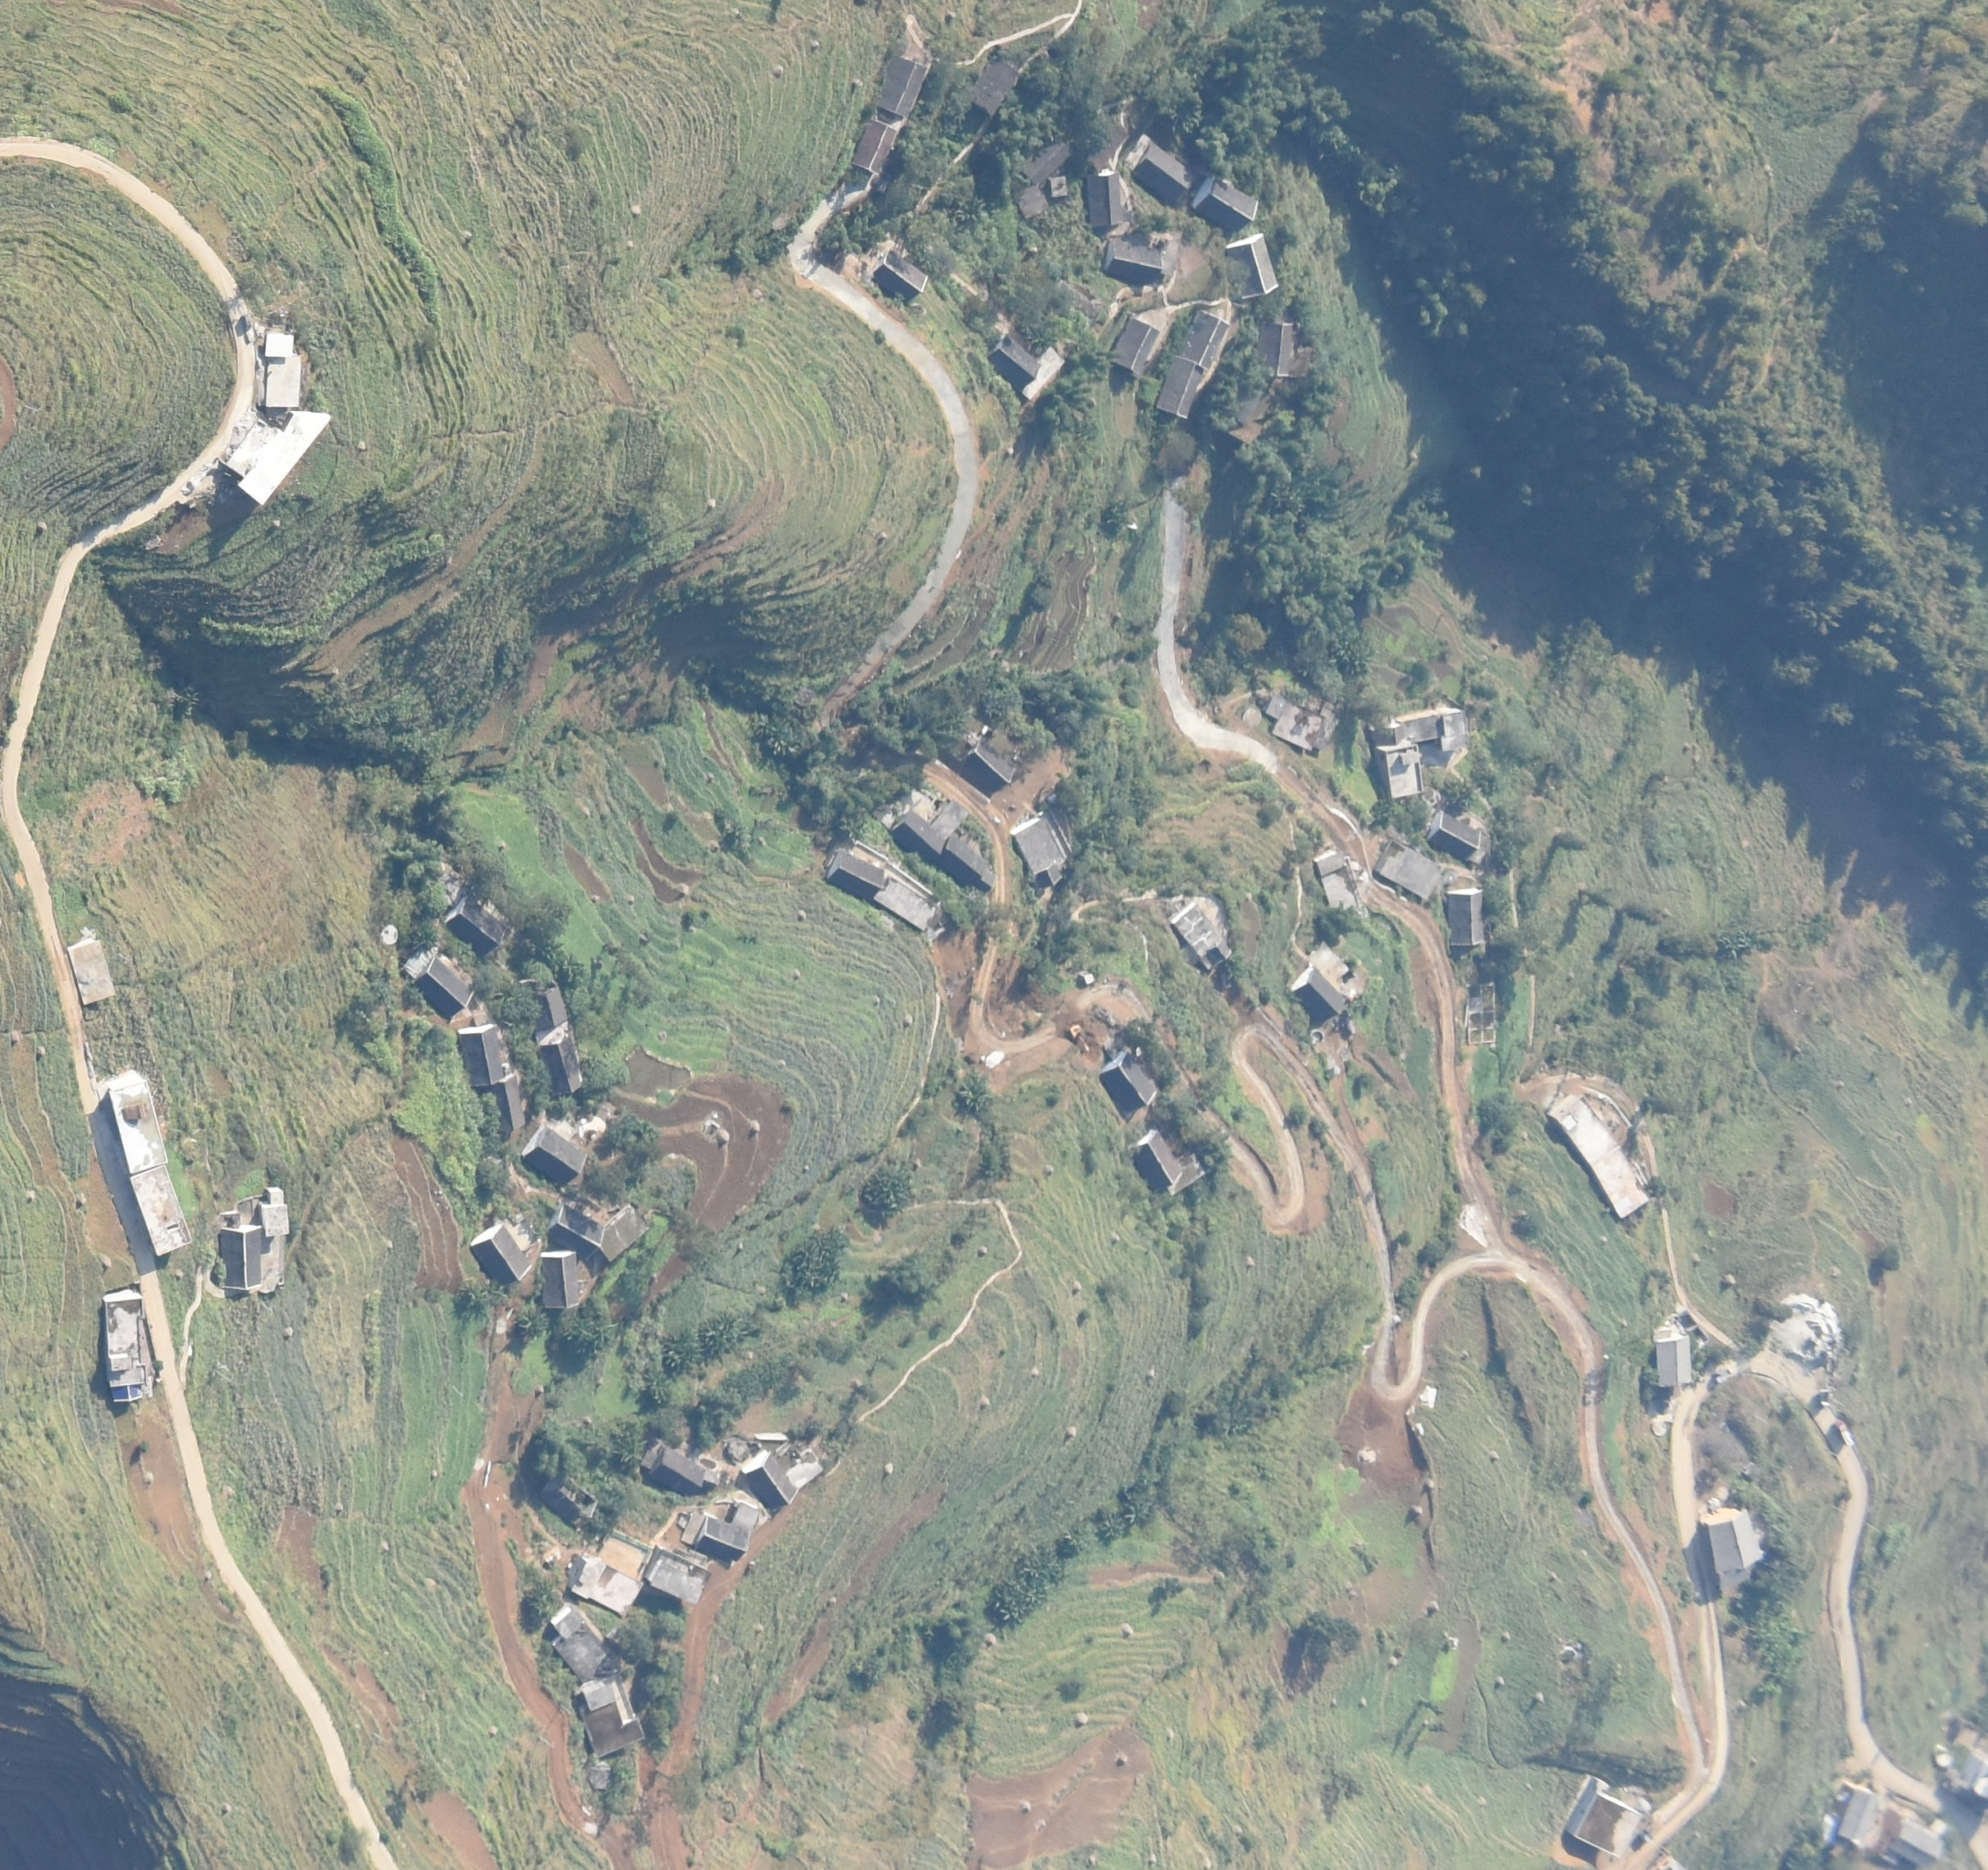building: (1549, 1096, 1647, 1218), (1821, 1782, 1940, 1867), (236, 412, 334, 504), (222, 1186, 290, 1292), (878, 778, 966, 851), (1565, 1779, 1644, 1857), (109, 1072, 167, 1173), (129, 1165, 190, 1257), (575, 1676, 646, 1756), (103, 1287, 150, 1403), (989, 332, 1062, 400), (741, 1453, 823, 1509), (567, 1555, 642, 1615), (1131, 1130, 1199, 1195), (552, 1603, 608, 1680), (1373, 838, 1442, 900), (1172, 902, 1232, 970), (446, 897, 510, 959), (1702, 1508, 1761, 1575), (1010, 815, 1062, 888), (1132, 139, 1191, 201), (1267, 695, 1335, 748), (646, 1546, 711, 1600), (471, 1223, 528, 1284), (645, 1446, 720, 1492), (1391, 705, 1469, 748), (1102, 1051, 1156, 1113), (681, 1513, 749, 1561), (875, 876, 935, 931), (1108, 314, 1161, 376), (1173, 309, 1227, 370), (523, 1126, 584, 1178), (1227, 233, 1276, 298), (937, 838, 994, 893), (1195, 177, 1257, 228), (68, 939, 115, 1004), (416, 959, 473, 1013), (827, 848, 884, 903), (874, 247, 929, 302), (537, 1029, 582, 1093), (457, 1023, 502, 1086), (1157, 358, 1202, 420), (546, 1203, 602, 1251), (876, 56, 923, 114), (972, 57, 1016, 118), (1105, 238, 1164, 281), (1081, 114, 1127, 167), (1378, 746, 1424, 799), (596, 1533, 650, 1578), (1294, 967, 1343, 1017), (852, 118, 893, 176), (601, 1208, 646, 1260), (1314, 851, 1355, 908), (1021, 136, 1072, 182), (1653, 1327, 1693, 1385), (542, 1251, 580, 1310), (1446, 890, 1485, 947), (1260, 322, 1301, 376), (1432, 814, 1483, 856), (1085, 173, 1124, 226), (1018, 176, 1067, 216), (967, 743, 1012, 784), (266, 354, 301, 407), (527, 985, 568, 1027), (492, 1078, 523, 1130), (732, 1502, 760, 1529), (265, 331, 293, 358)
quarry: (1767, 1292, 1844, 1365)
vehicle: (1834, 1420, 1853, 1447), (1820, 1388, 1830, 1406)
well: (379, 922, 398, 947), (1652, 1420, 1667, 1437)
